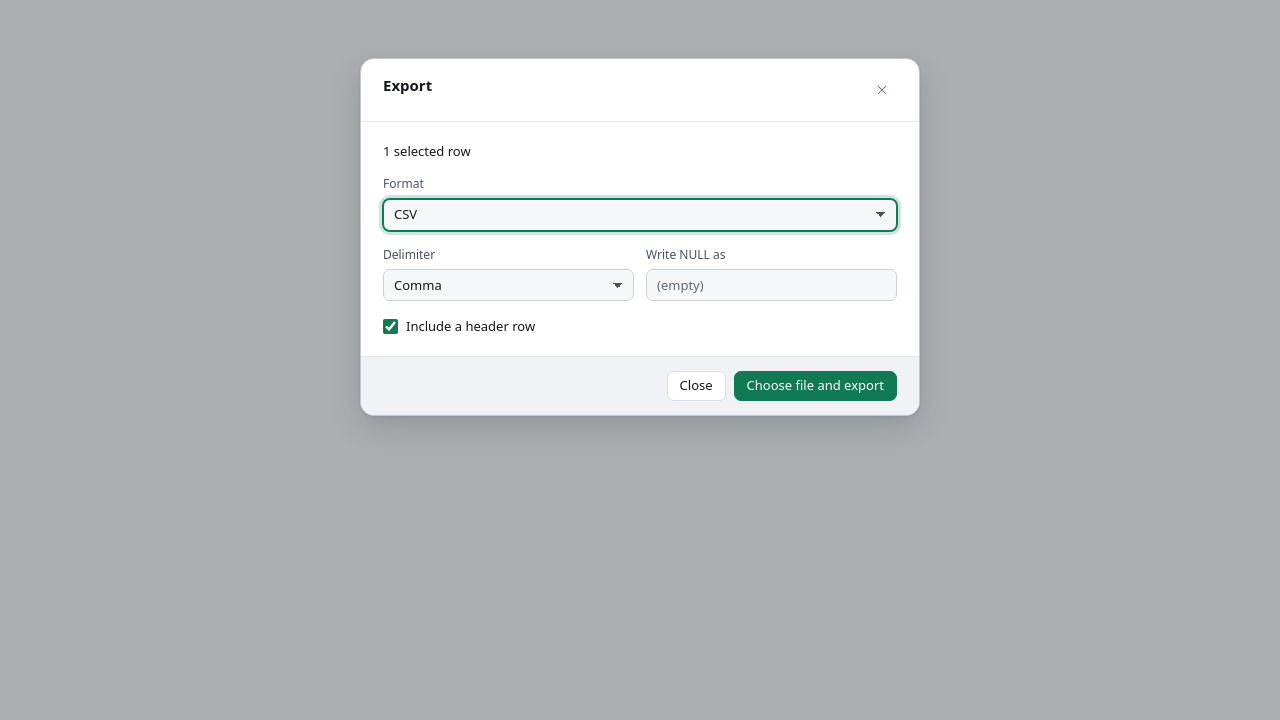
Test: ExportDialog › refuses rows that still hold Not loaded or previewed values instead of writing them empty
The width and height of the screenshot is (1280, 720).
Step 1. Click the button "Choose file and export" → (815, 386), box [734, 371, 897, 401]
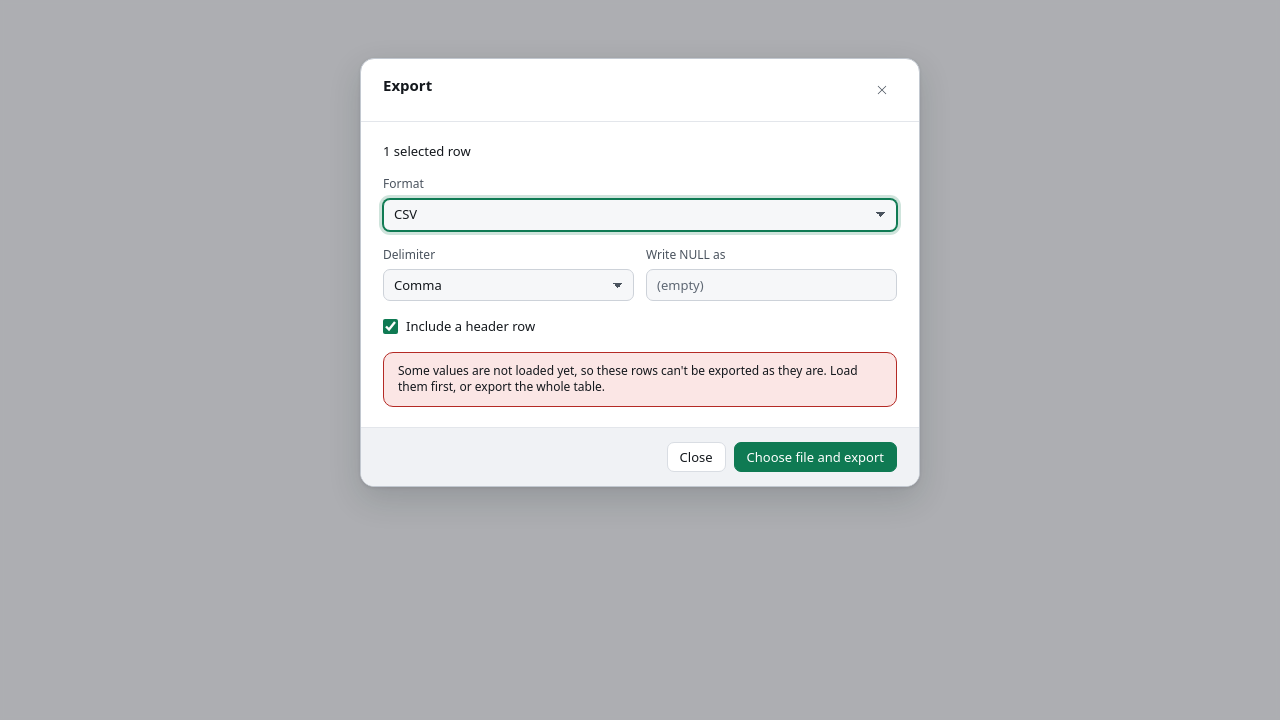
Now the text "not loaded" is shown, box [398, 362, 858, 395]
